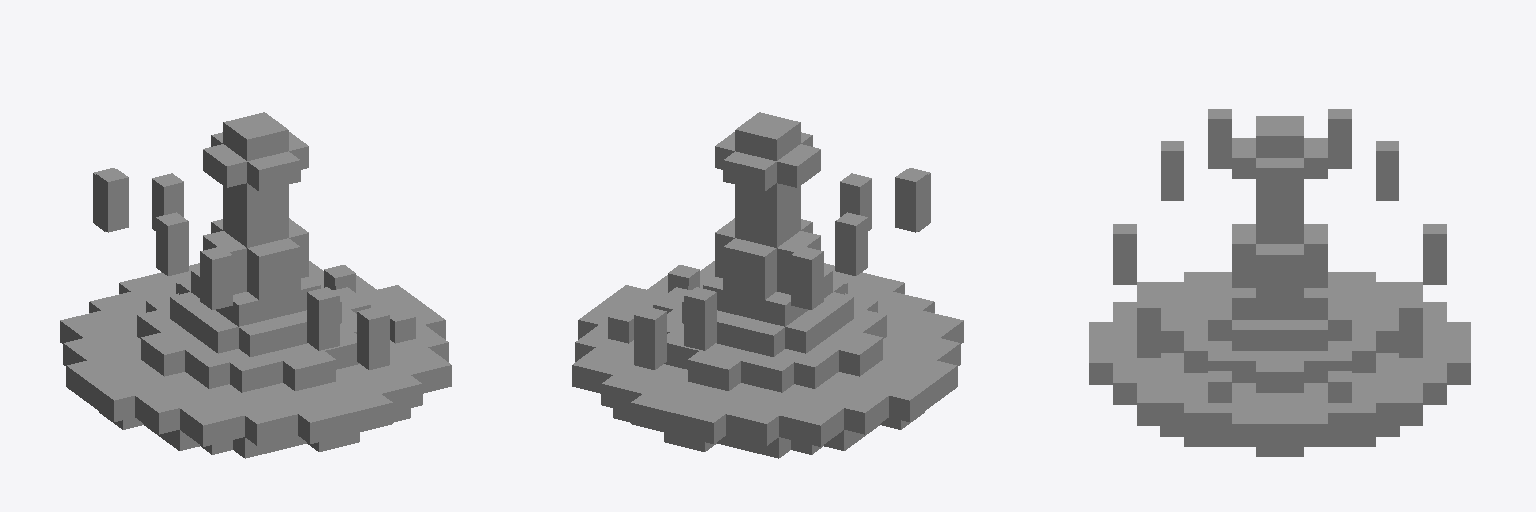
The model's file is waystone_model_aer.obj.
3 views of the same model, side by side, from view 1: azimuth 30°, elevation 25°; view 2: azimuth 150°, elevation 25°; view 3: azimuth 270°, elevation 25° (orthographic).
Visible parts, largest first — view 1: Cube.002_Cube.007; view 2: Cube.002_Cube.007; view 3: Cube.002_Cube.007.
Part boxes in pixels (left/top/right/bottom): Cube.002_Cube.007: left=60, top=112, right=451, bottom=458; Cube.002_Cube.007: left=572, top=112, right=963, bottom=458; Cube.002_Cube.007: left=1089, top=109, right=1470, bottom=456.
Size of the model in its own units: 0.9278 by 0.6959 by 0.9278.